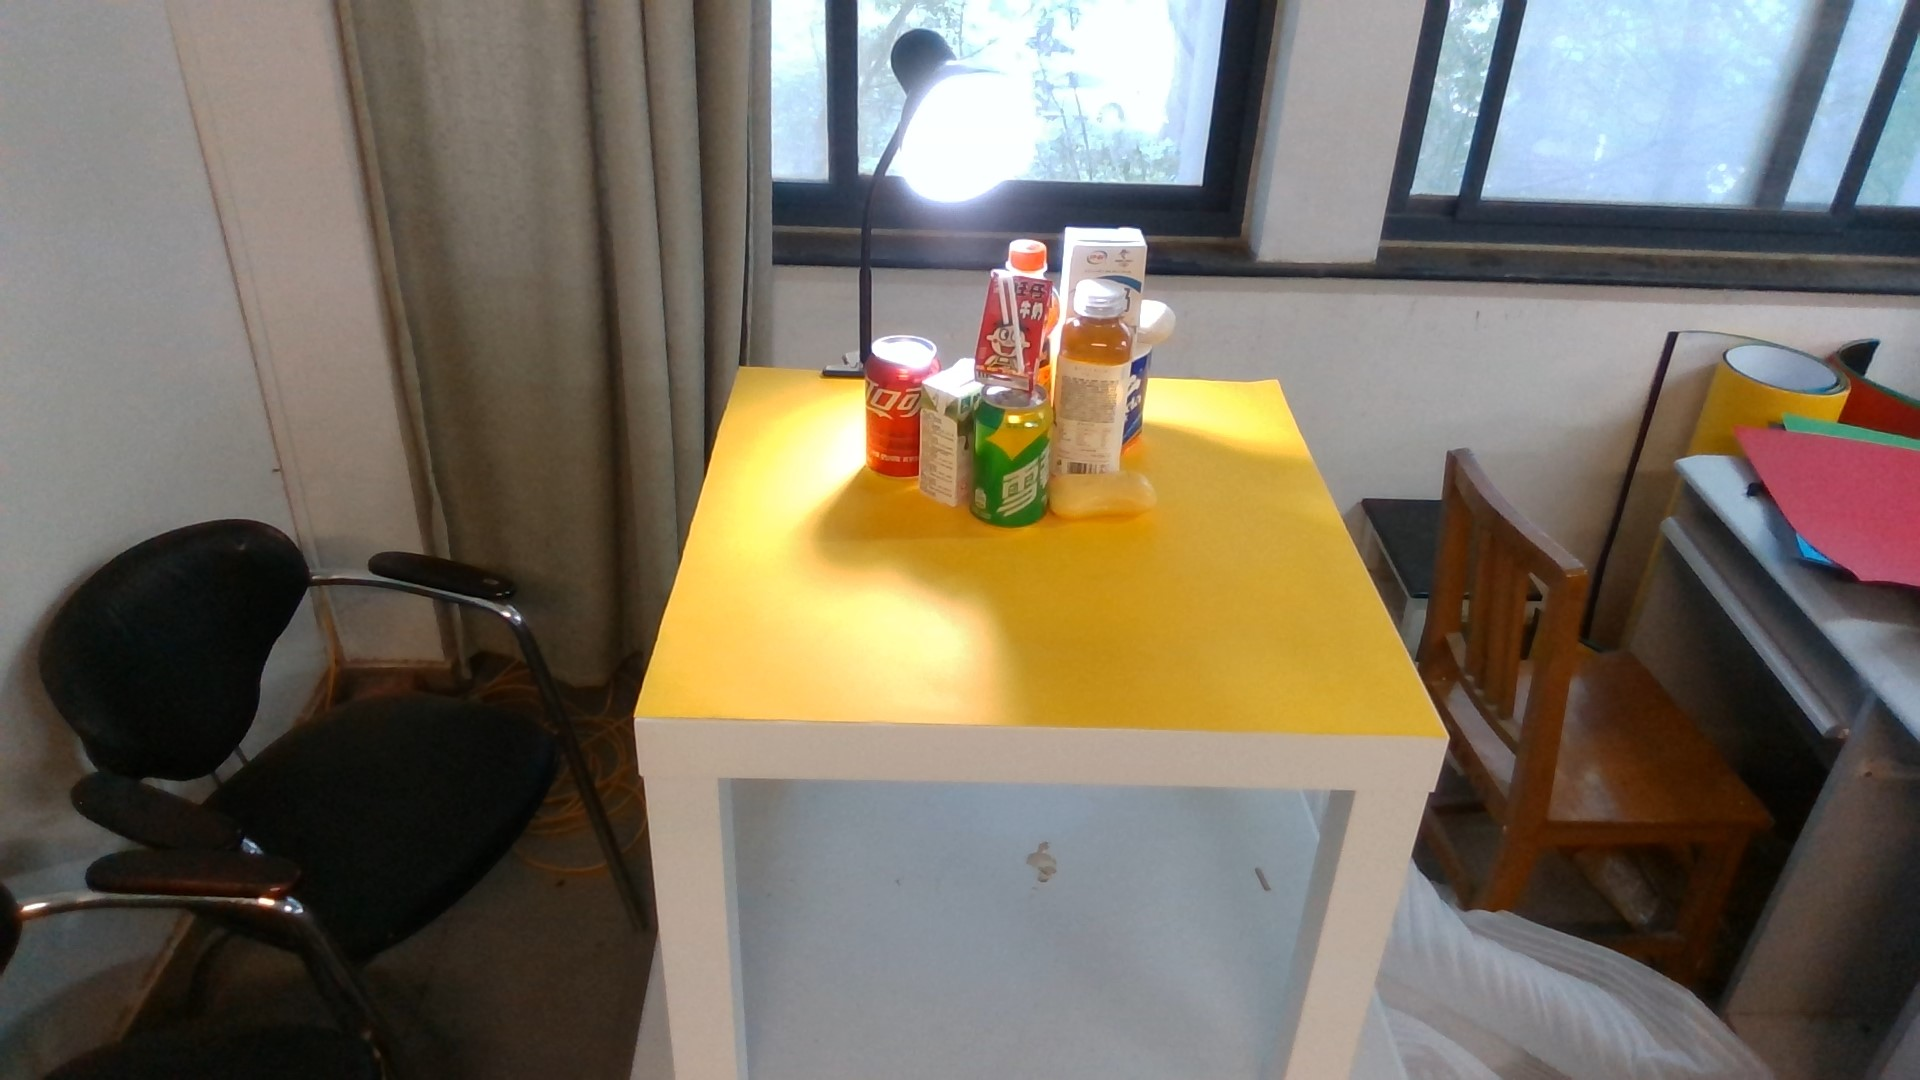BB003: (1050, 471, 1156, 521), (1139, 295, 1178, 349)
BB009: (916, 367, 972, 506)
BB012: (973, 269, 1050, 371)
BB013: (1065, 225, 1151, 282)
CA002: (1127, 356, 1149, 452)
ZC001: (973, 392, 1050, 530)
ZC002: (865, 332, 919, 475)
ZC006: (1001, 237, 1051, 273)
ZC012: (1058, 278, 1126, 471)
